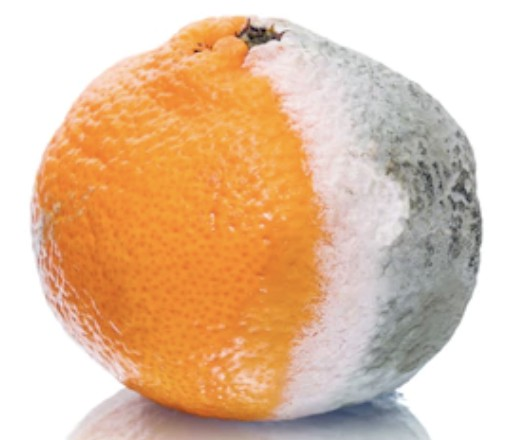rotten_orange: (31, 14, 483, 422)
